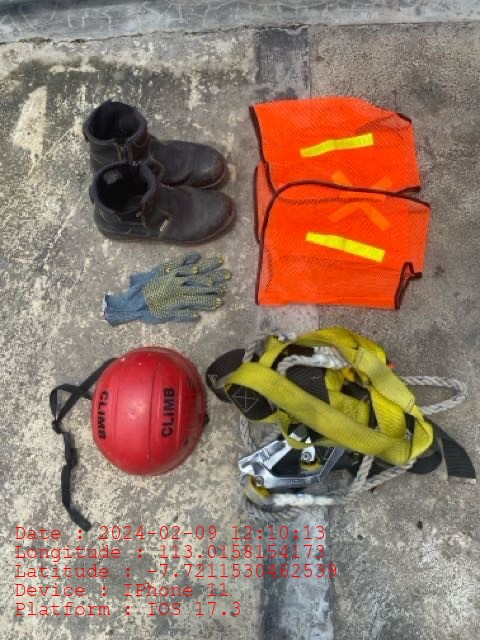HELM: (91, 346, 206, 475)
ROMPI: (248, 102, 421, 308)
SARUNG_TANGAN: (104, 267, 222, 327)
SEPATU: (82, 99, 235, 246)
